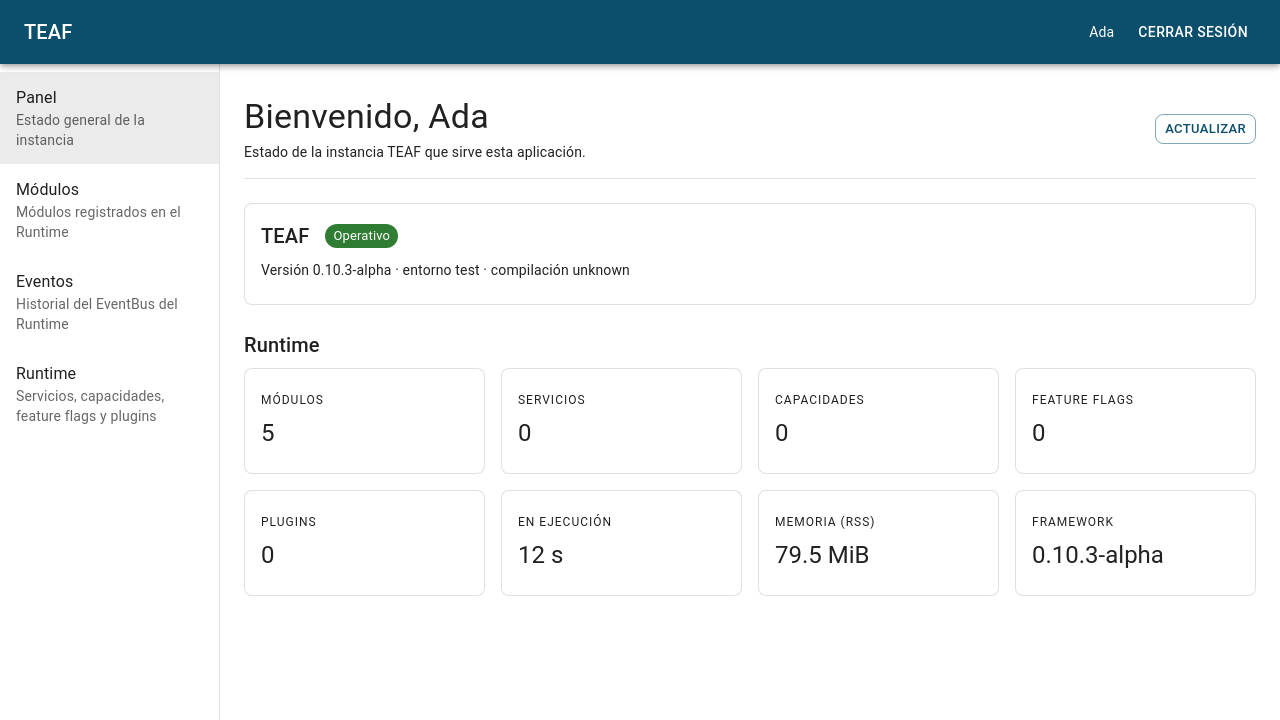
Scenario: Navegación › navega entre pantallas sin recargar la aplicación
The image size is (1280, 720).
Check: the heading "Bienvenido, Ada" is shown, box [244, 96, 489, 136]
Click the link "Módulos Módulos registrados en el Runtime": (98, 210) [16, 180, 181, 240]
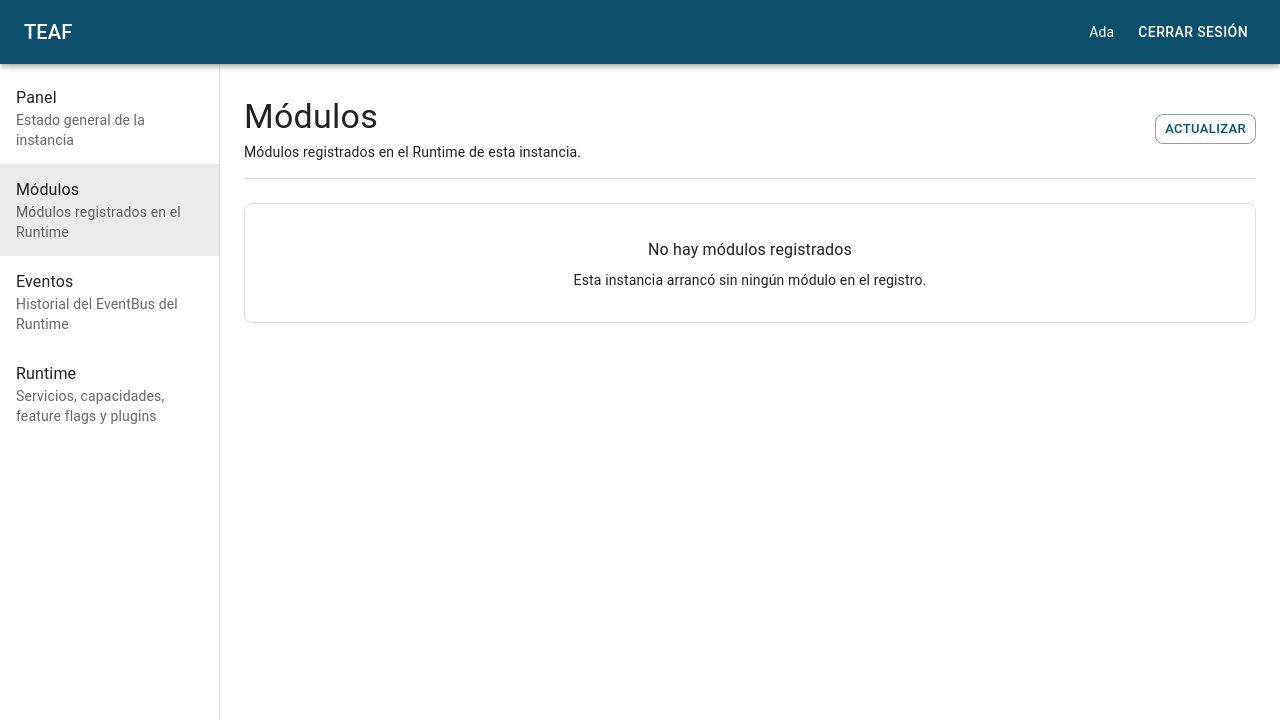
Check: the heading "Módulos" is shown, box [244, 96, 378, 136]
